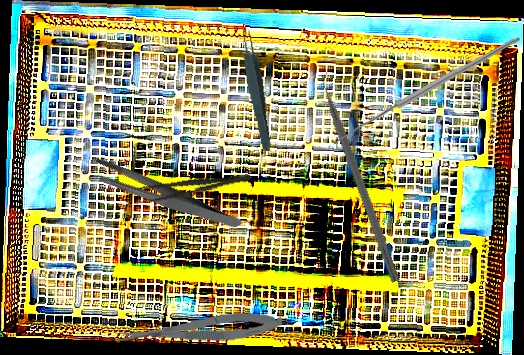Chopper: (314, 63, 412, 283)
Dressing Forceps: (87, 127, 244, 265), (131, 166, 252, 208)
Hook Surgical: (335, 33, 521, 155)
Micro Scissor: (114, 309, 283, 349)
Tissue Forceps: (237, 26, 276, 153)
